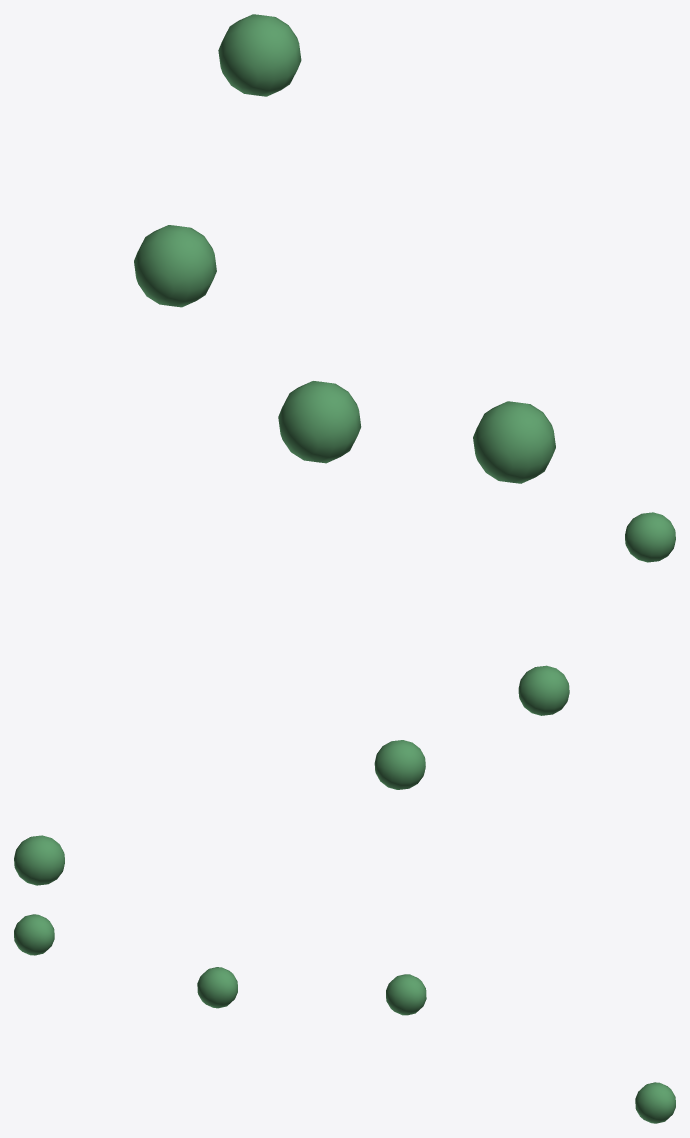
3 renders of one model, top to bottom at view 1: azimuth 30°, elevation 25°; view 2: azimuth 150°, elevation 25°; view 3: azimuth 270°, elevation 25°, orthographic. The views are drawn at different scales.
Visible parts, largest first — view 1: 心包外侧淋巴结; view 2: 心包外侧淋巴结; view 3: 心包外侧淋巴结.
Boxes of the visible parts, <box> form: 心包外侧淋巴结: <box>134,14,555,483</box>; 心包外侧淋巴结: <box>14,512,675,885</box>; 心包外侧淋巴结: <box>14,914,675,1123</box>.
Size of the model in its own units: 0.0237 by 0.0117 by 0.0605.
